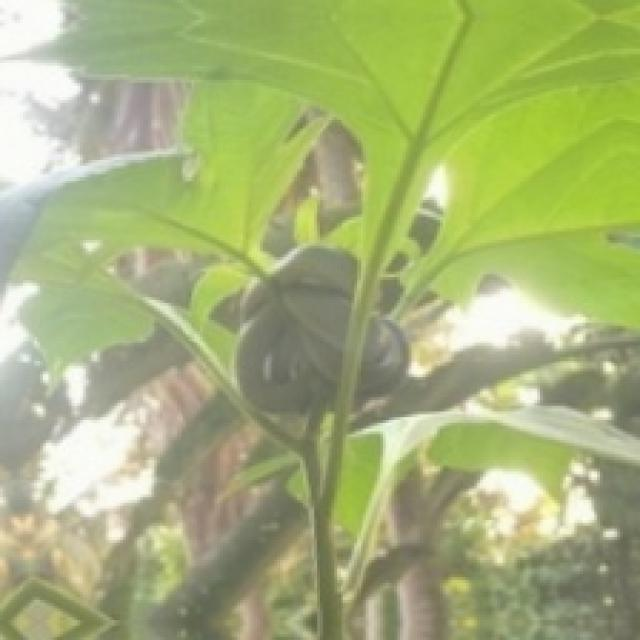red-tailed green ratsnake: (236, 246, 356, 413), (356, 319, 409, 402)
